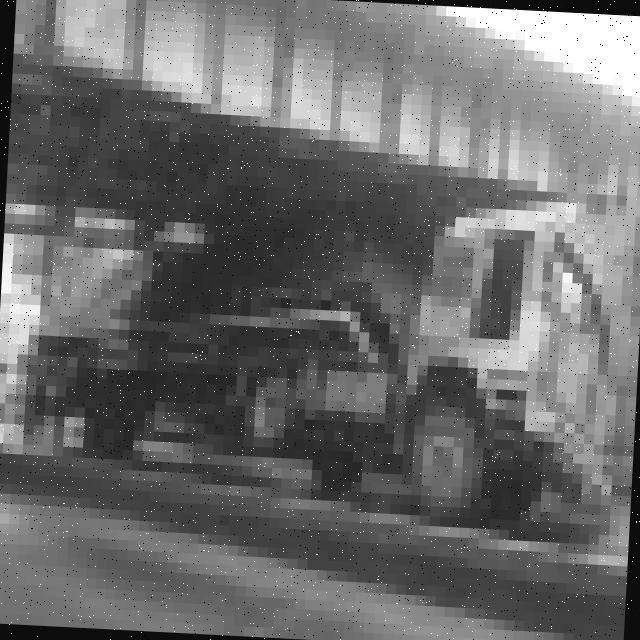trucks: (3, 161, 633, 538)
